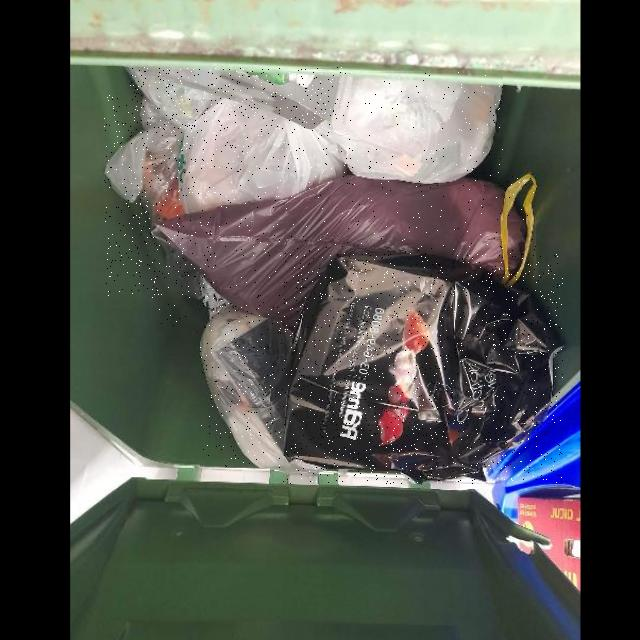paper: (136, 68, 339, 128)
plastic: (284, 253, 563, 483), (157, 173, 538, 331), (127, 67, 351, 211), (104, 95, 215, 298), (331, 72, 503, 183), (201, 305, 294, 468)
